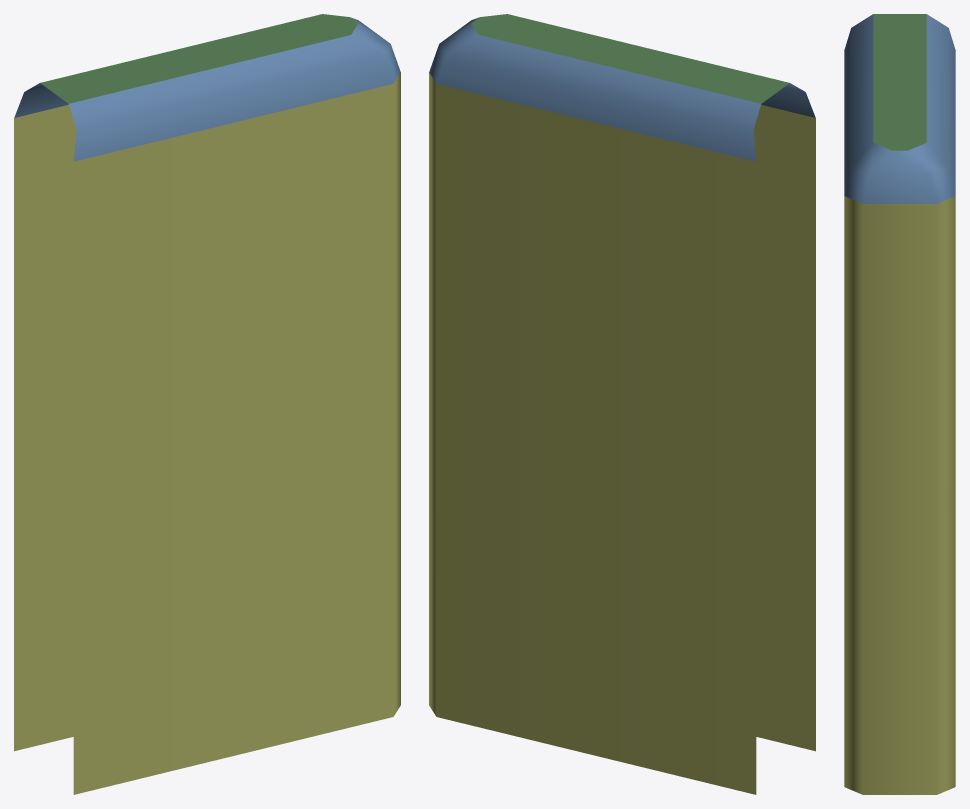
The model's file is Mini_PLat6.fbx.
The picture shows the model from 3 angles, left to right: view 1: azimuth 30°, elevation 25°; view 2: azimuth 150°, elevation 25°; view 3: azimuth 270°, elevation 25°; orthographic projection. The views are drawn at different scales.
Parts seen in each view (by area): view 1: Mini_Plat2, Wall3, Ground3; view 2: Mini_Plat2, Wall3, Ground3; view 3: Mini_Plat2, Wall3, Ground3.
Part boxes in pixels (left/top/right/bottom): Mini_Plat2: left=14, top=72, right=400, bottom=794; Wall3: left=14, top=17, right=400, bottom=161; Ground3: left=40, top=14, right=358, bottom=103; Mini_Plat2: left=429, top=72, right=815, bottom=794; Wall3: left=429, top=17, right=815, bottom=161; Ground3: left=471, top=14, right=789, bottom=103; Mini_Plat2: left=844, top=196, right=955, bottom=794; Wall3: left=844, top=14, right=955, bottom=203; Ground3: left=873, top=14, right=926, bottom=150.
Bounding box in the file's own units: 6901 × 13248 × 2115.
